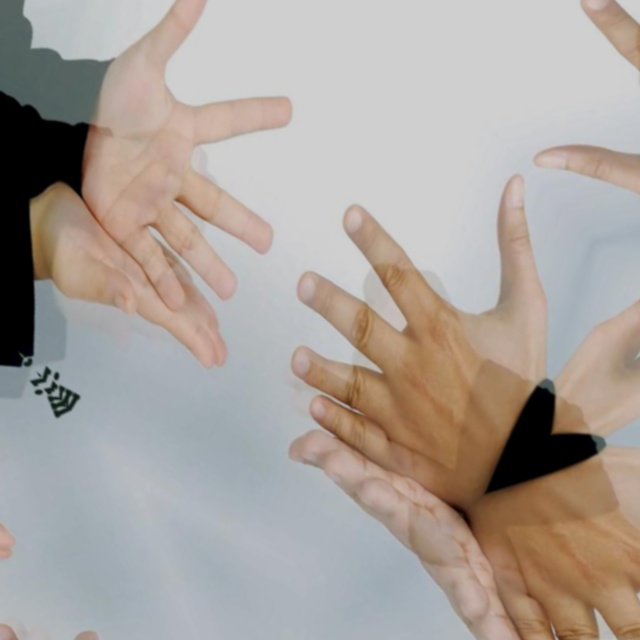Paper: (0, 0, 207, 127), (0, 253, 44, 640)
